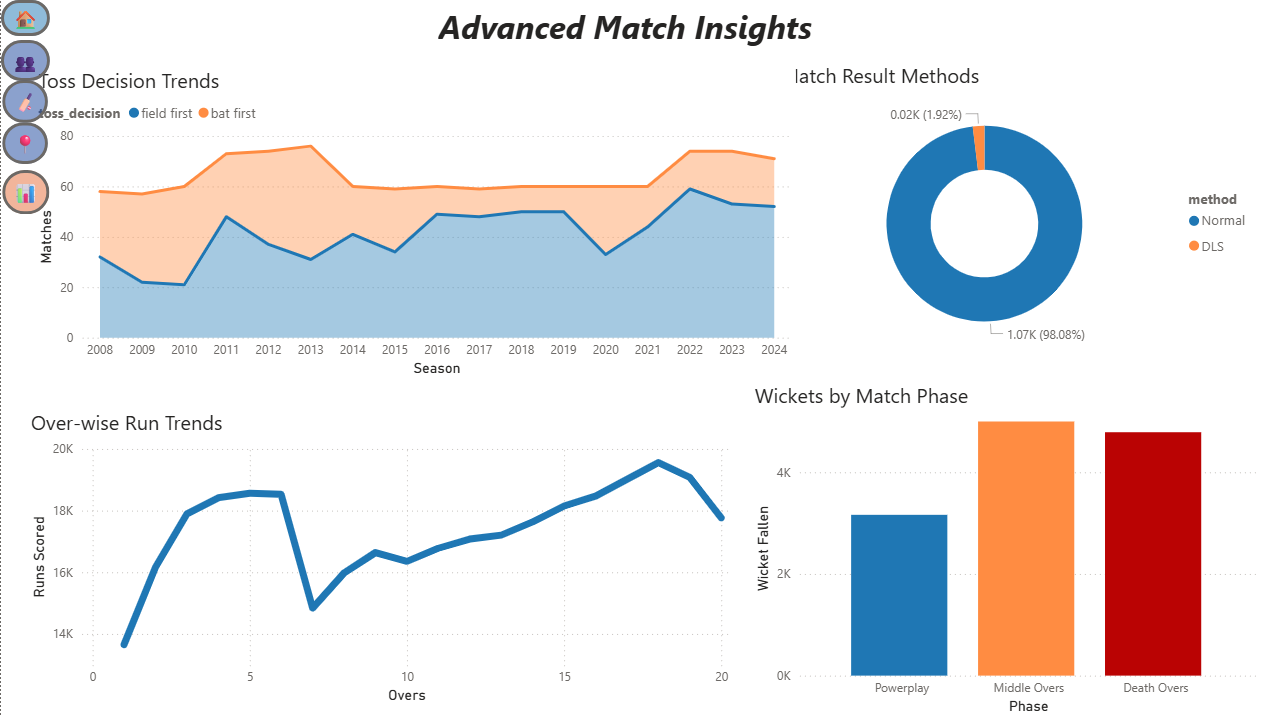

The page's visual inventory and layout, read from the dashboard file:
{"tool":"powerbi","page":{"name":"Advanced insights 📊","canvas":[1280,720],"ordinal":4},"visuals":[{"type":"lineChart","title":"Over-wise Run Trends","fields":{"Category":["Mixed dataset.deliveries.Over"],"Y":["Sum(Mixed dataset.deliveries.total_runs)"]},"box":[24.4,409.3,710.5,300],"z":0},{"type":"columnChart","title":"Wickets by Match Phase","fields":{"Category":["Mixed dataset.deliveries.Phase"],"Y":["Sum(Mixed dataset.deliveries.is_wicket)"]},"box":[748.8,381.4,512.8,338.4],"z":1000},{"type":"textbox","box":[432.6,0,486,54.7],"z":2000},{"type":"donutChart","title":"Match Result Methods","fields":{"Category":["Mixed dataset.method"],"Y":["Count(Mixed dataset.Match_id)"]},"box":[775,61.2,486.2,298.8],"z":3000},{"type":"stackedAreaChart","title":"Toss Decision Trends","fields":{"Y":["Count(Mixed dataset.Match_id)"],"Series":["Mixed dataset.toss_decision"],"Category":["Mixed dataset.Season"]},"box":[32.6,66.3,762.8,315.1],"z":4000},{"type":"actionButton","title":"Home","box":[0,0,49,36],"z":5000,"group":"g1"},{"type":"actionButton","title":"Home","box":[0.8,170,47.1,44.3],"z":6000,"group":"g1"},{"type":"group","id":"g1","title":"Group 1","box":[0,0,49,214.3],"z":7000},{"type":"actionButton","title":"Home","box":[1.5,122.9,45.7,41.4],"z":7000,"group":"g1"},{"type":"actionButton","title":"Home","box":[1.5,80,45.7,42.9],"z":8000,"group":"g1"},{"type":"actionButton","title":"Home","box":[0,40.5,49,41],"z":10000,"group":"g1"}]}

Visuals, with their boxes on the page's 1280x720 design canvas (x1, y1, x2, y2). These are canvas units, not pixel positions in the 1280x717 screenshot, which may show the page scaled, cropped or inside an application window:
"Over-wise Run Trends" lineChart: BBox(24, 409, 735, 709)
"Wickets by Match Phase" columnChart: BBox(749, 381, 1262, 720)
textbox: BBox(433, 0, 919, 55)
"Match Result Methods" donutChart: BBox(775, 61, 1261, 360)
"Toss Decision Trends" stackedAreaChart: BBox(33, 66, 795, 381)
"Home" actionButton: BBox(0, 0, 49, 36)
"Home" actionButton: BBox(1, 170, 48, 214)
"Group 1" group: BBox(0, 0, 49, 214)
"Home" actionButton: BBox(2, 123, 47, 164)
"Home" actionButton: BBox(2, 80, 47, 123)
"Home" actionButton: BBox(0, 40, 49, 82)
